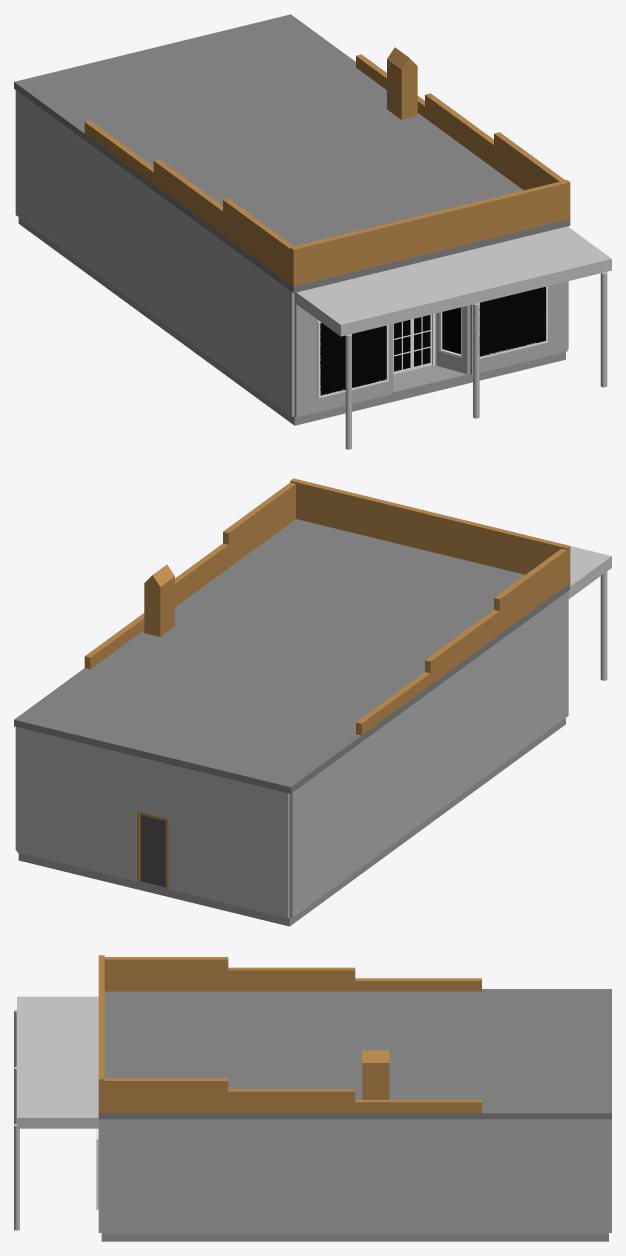
Rendered from building_phase_1b_iter_019.glb.
The picture shows the model from 3 angles, top to bottom: view 1: azimuth 30°, elevation 25°; view 2: azimuth 150°, elevation 25°; view 3: azimuth 270°, elevation 25°; orthographic projection. The views are drawn at different scales.
Parts seen in each view (by area): view 1: Roof, Wall_Left, Canopy_Roof, Parapet_Front, Wall_Front, Foundation, Front_Right_Window_Glass, Front_Left_Window_Glass, Parapet_Left_Level_1, Parapet_Right_Level_1, Parapet_Left_Level_2, Parapet_Right_Level_2 (+8 smaller); view 2: Roof, Wall_Left, Wall_Rear, Parapet_Front, Foundation, Parapet_Left_Level_1, Parapet_Right_Level_1, Parapet_Left_Level_2, Rear_Service_Door_Panel, Parapet_Right_Level_2, Chimney, Canopy_Roof (+3 smaller); view 3: Wall_Right, Roof, Canopy_Roof, Parapet_Right_Level_1, Parapet_Left_Level_1, Foundation, Parapet_Left_Level_2, Parapet_Right_Level_2, Parapet_Left_Level_3, Parapet_Right_Level_3, Parapet_Front, Chimney (+2 smaller).
Boxes of the visible parts, x1,y1,x2,y2 form: Roof: [14, 14, 570, 293]; Wall_Left: [15, 90, 294, 416]; Canopy_Roof: [296, 226, 611, 336]; Parapet_Front: [290, 180, 570, 286]; Wall_Front: [294, 281, 567, 417]; Foundation: [18, 217, 565, 425]; Front_Right_Window_Glass: [479, 286, 545, 356]; Front_Left_Window_Glass: [320, 323, 386, 395]; Parapet_Left_Level_1: [223, 198, 293, 283]; Parapet_Right_Level_1: [494, 132, 564, 190]; Parapet_Left_Level_2: [153, 159, 222, 234]; Parapet_Right_Level_2: [425, 93, 493, 168]; Roof: [14, 519, 570, 793]; Wall_Left: [289, 591, 568, 917]; Wall_Rear: [17, 727, 289, 918]; Parapet_Front: [290, 478, 570, 584]; Foundation: [18, 718, 565, 926]; Parapet_Left_Level_1: [494, 548, 567, 633]; Parapet_Right_Level_1: [223, 482, 295, 567]; Parapet_Left_Level_2: [425, 609, 499, 684]; Rear_Service_Door_Panel: [140, 815, 165, 887]; Parapet_Right_Level_2: [175, 543, 228, 606]; Chimney: [144, 576, 174, 636]; Canopy_Roof: [568, 546, 611, 598]; Wall_Right: [101, 1119, 608, 1234]; Roof: [98, 989, 611, 1119]; Canopy_Roof: [17, 996, 101, 1128]; Parapet_Right_Level_1: [101, 1078, 228, 1113]; Parapet_Left_Level_1: [104, 957, 228, 991]; Foundation: [101, 1234, 608, 1241]; Parapet_Left_Level_2: [228, 967, 355, 991]; Parapet_Right_Level_2: [228, 1089, 355, 1113]; Parapet_Left_Level_3: [355, 978, 481, 991]; Parapet_Right_Level_3: [355, 1100, 481, 1113]; Parapet_Front: [98, 955, 104, 1113]; Chimney: [362, 1063, 389, 1099].
Size of the model in its own units: 8.68 by 6.03 by 17.68.
